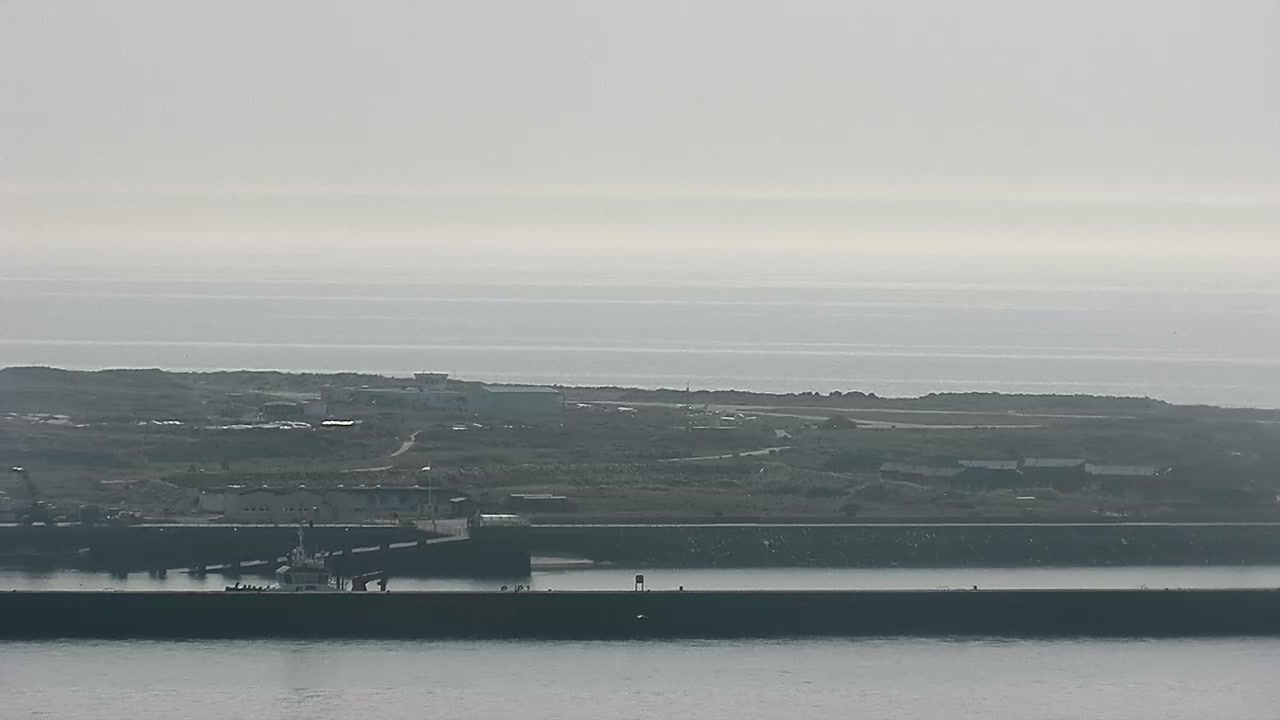sea: (224, 519, 389, 591)
